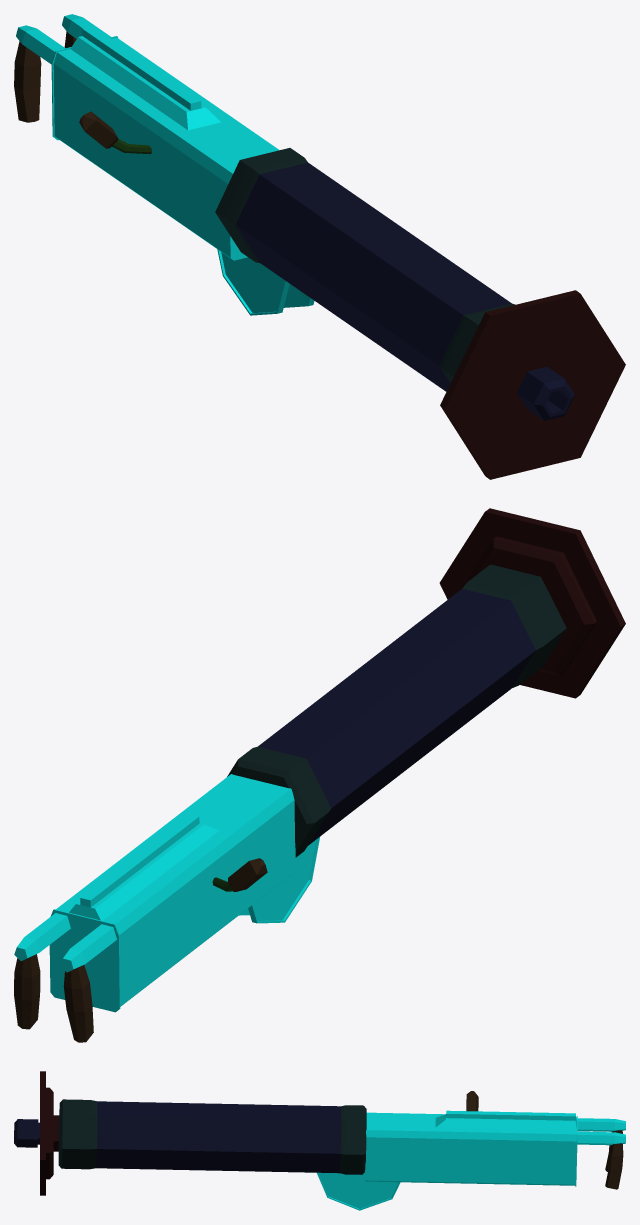
File: Main Gun.fbx
3 views of the same model, one above another, from view 1: azimuth 30°, elevation 25°; view 2: azimuth 150°, elevation 25°; view 3: azimuth 270°, elevation 25° (orthographic). The views are drawn at different scales.
Parts seen in each view (by area): view 1: Main_Gun; view 2: Main_Gun; view 3: Main_Gun.
Part boxes in pixels (x1=…): Main_Gun: x1=14, y1=14, x2=625, y2=479; Main_Gun: x1=14, y1=508, x2=625, y2=1042; Main_Gun: x1=14, y1=1071, x2=625, y2=1210.
Size of the model in its own units: 0.3442 by 0.364 by 1.67.
